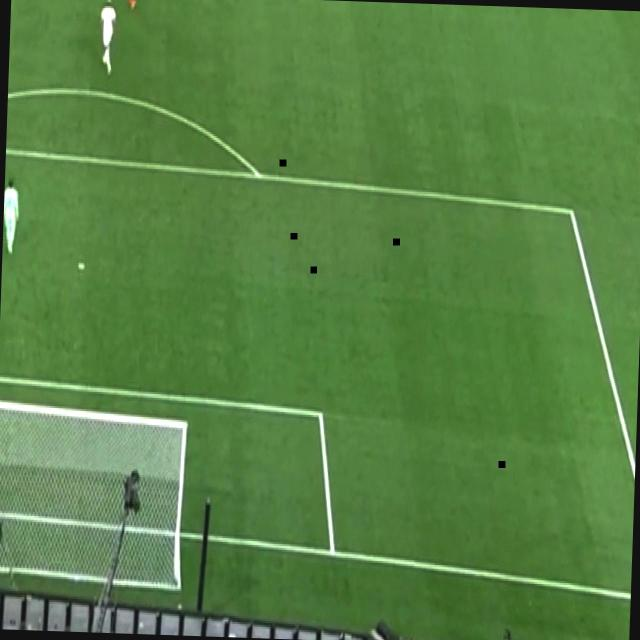player-white: (2, 175, 24, 255), (97, 0, 116, 79), (124, 0, 144, 11)
